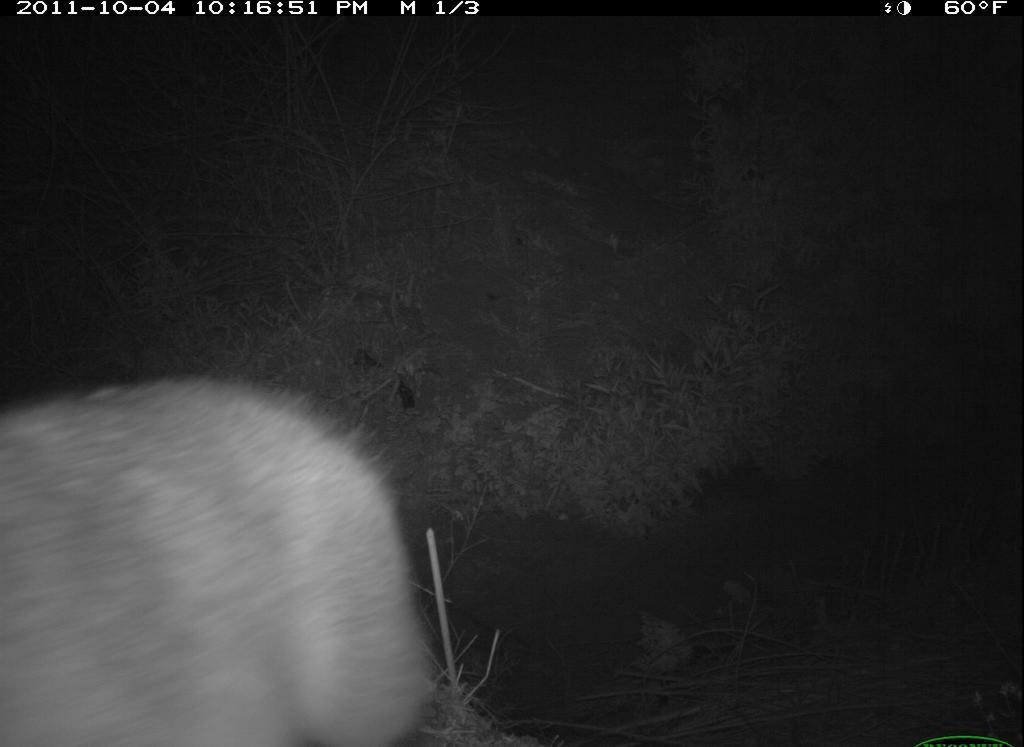raccoon: (3, 372, 438, 743)
